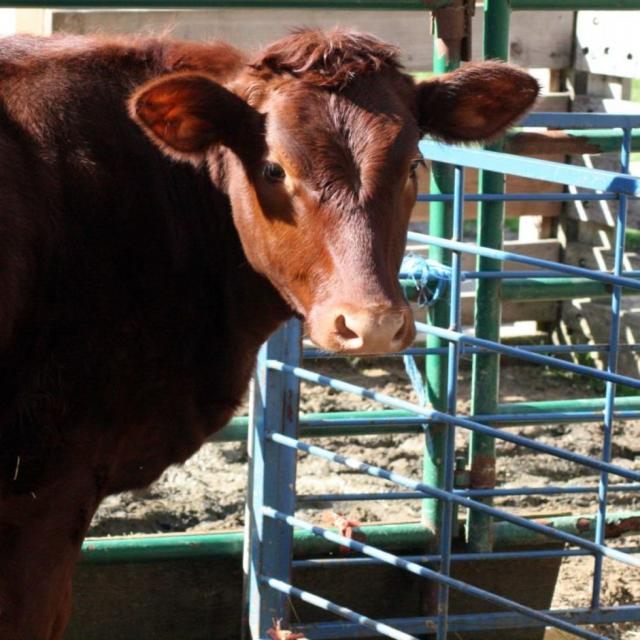Cattle: (0, 11, 540, 618)
